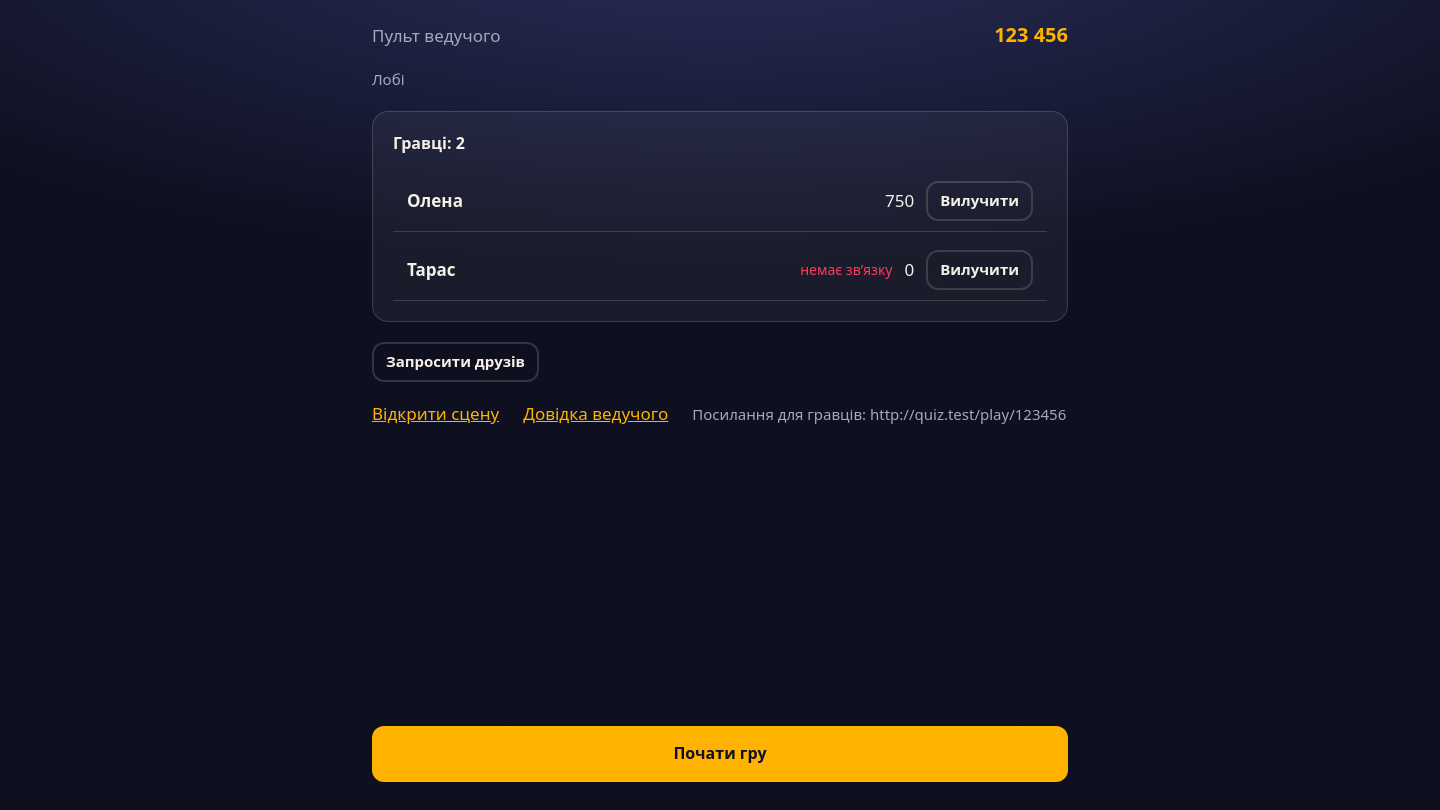
it: HostScreen › explains a refused action
Click the button "Почати гру" at (720,754), box x1=372 y1=726 x2=1068 y2=782
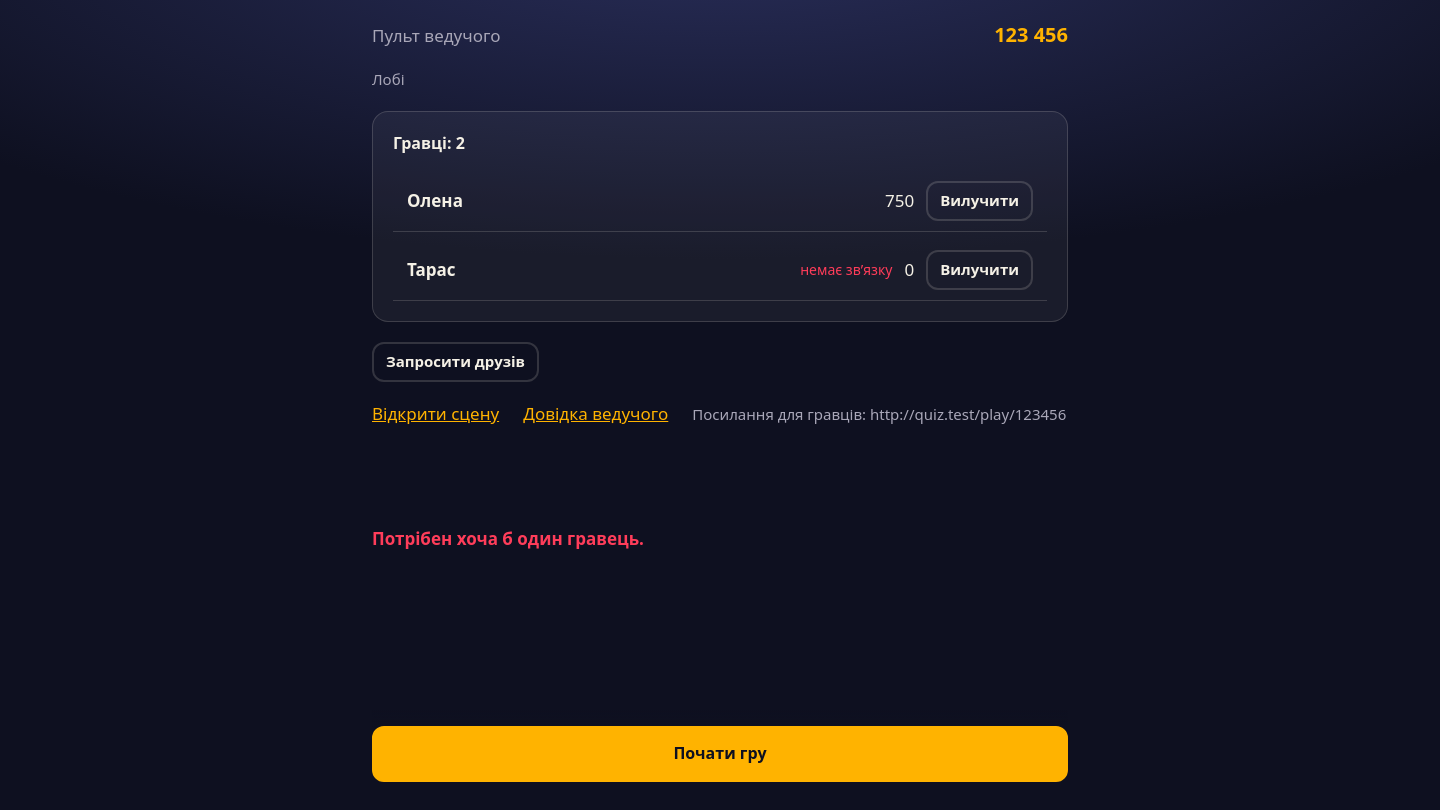
Now the message reads "Потрібен хоча б один гравець.", box x1=372 y1=527 x2=644 y2=550
